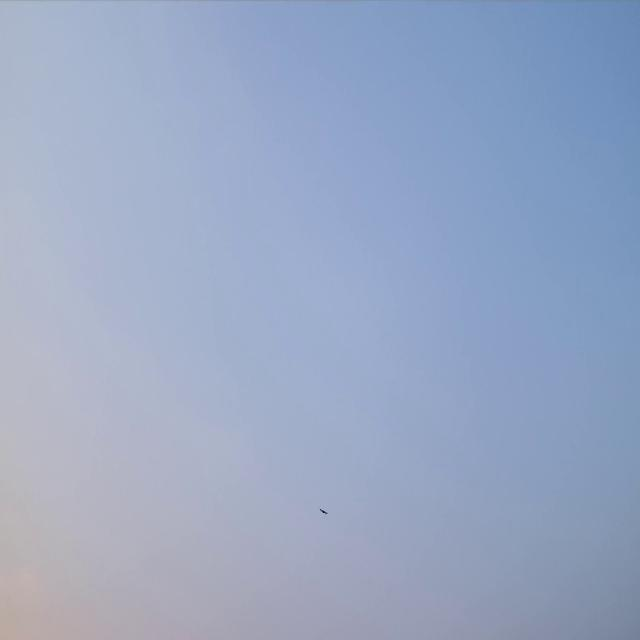UAV: (317, 506, 328, 516)
